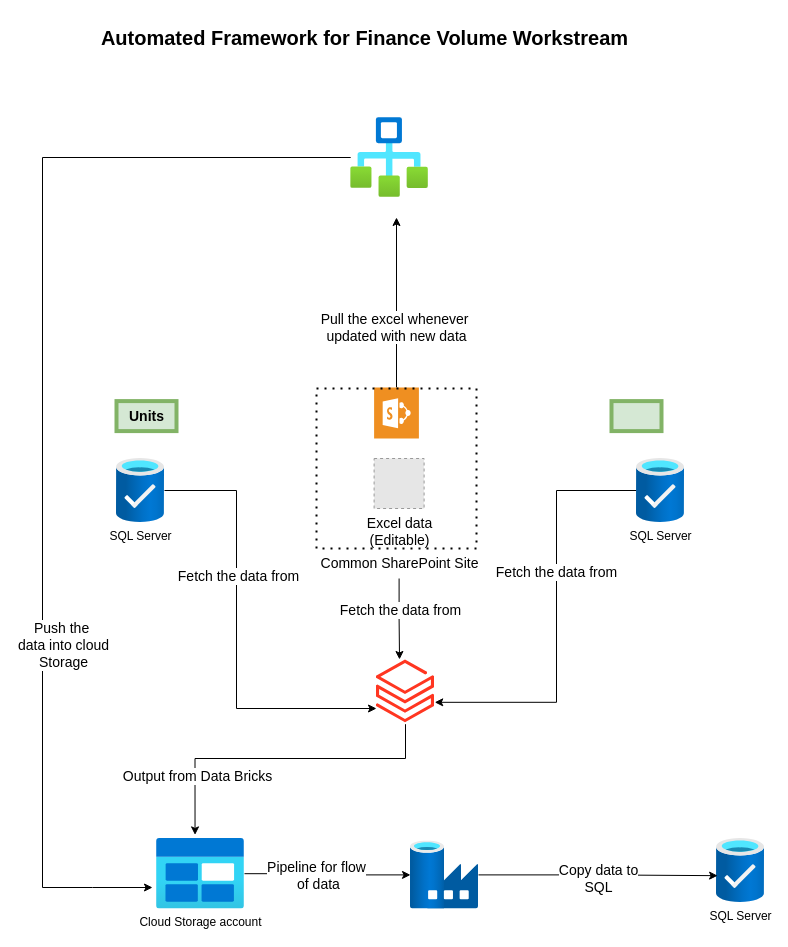
Some shapes in this 788 by 947 pixel diagram are drawn without their labels. Grey dashed boxes stand in for pictures. Each missing label, with the centre of its shape:
Automate flow: the point at 389,157
Data Bricks: the point at 405,691
SVP: the point at 636,416
